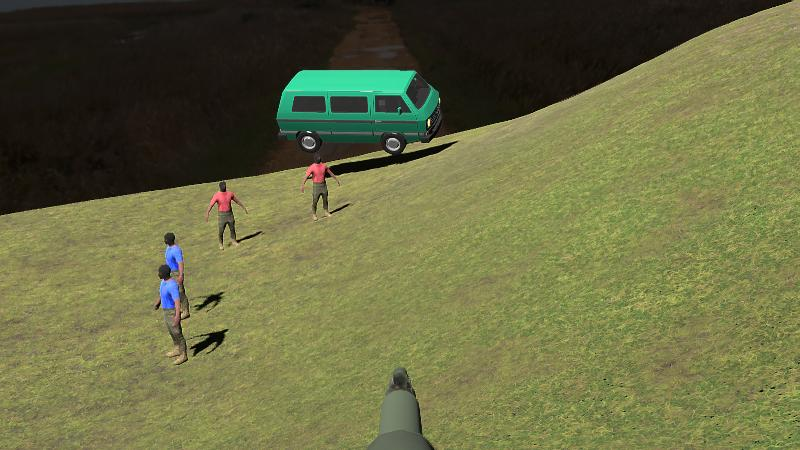Human: (155, 263, 190, 366), (207, 180, 248, 251), (302, 153, 340, 221), (163, 231, 188, 325)
car: (277, 68, 442, 157)
